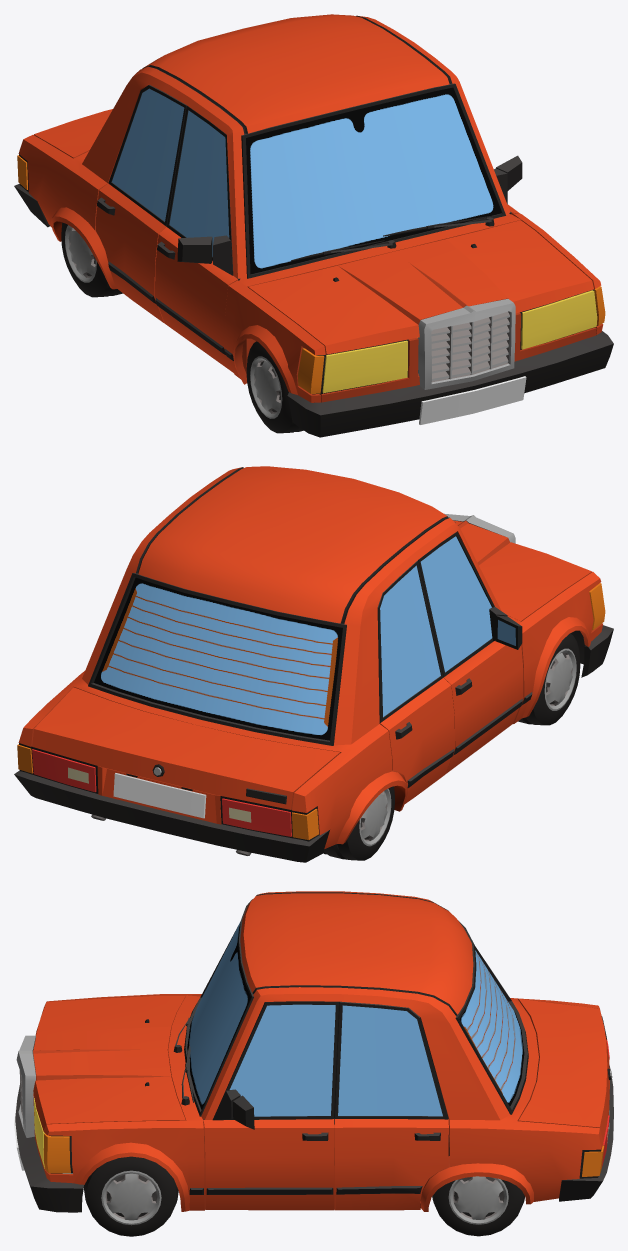
Rendered from car.obj.
3 views of the same model, one above another, from view 1: azimuth 30°, elevation 25°; view 2: azimuth 150°, elevation 25°; view 3: azimuth 270°, elevation 25° (orthographic). The views are drawn at different scales.
Parts seen in each view (by area): view 1: Object_4, Object_6, Object_26, Object_33, Object_29, Object_5, Object_83, Object_89, Object_85, Object_91, Object_87, Object_94 (+13 smaller); view 2: Object_4, Object_6, Object_35, Object_40, Object_26, Object_89, Object_85, Object_83, Object_5, Object_87, Object_91, Object_84 (+9 smaller); view 3: Object_4, Object_26, Object_45, Object_6, Object_47, Object_51, Object_35, Object_49, Object_42, Object_5, Object_46, Object_24 (+10 smaller).
Part boxes in pixels (<box>): Object_4: <box>18,14,520,289</box>; Object_6: <box>246,87,500,274</box>; Object_26: <box>248,220,593,354</box>; Object_33: <box>287,331,613,437</box>; Object_29: <box>418,299,515,389</box>; Object_5: <box>53,15,596,402</box>; Object_83: <box>155,227,237,372</box>; Object_89: <box>112,88,184,221</box>; Object_85: <box>169,110,229,256</box>; Object_91: <box>224,280,325,402</box>; Object_87: <box>96,183,166,323</box>; Object_94: <box>322,340,407,393</box>; Object_4: <box>18,466,520,848</box>; Object_6: <box>94,577,342,740</box>; Object_35: <box>32,687,339,809</box>; Object_40: <box>14,770,329,862</box>; Object_26: <box>453,520,591,621</box>; Object_89: <box>380,565,440,716</box>; Object_85: <box>420,536,492,672</box>; Object_83: <box>444,641,523,773</box>; Object_5: <box>31,467,490,855</box>; Object_87: <box>380,678,454,803</box>; Object_91: <box>514,572,602,723</box>; Object_84: <box>418,532,522,755</box>; Object_4: <box>168,891,609,1211</box>; Object_26: <box>33,995,185,1130</box>; Object_45: <box>203,1119,334,1210</box>; Object_6: <box>187,921,524,1109</box>; Object_47: <box>229,1004,335,1116</box>; Object_51: <box>338,1005,442,1116</box>; Object_35: <box>518,998,612,1141</box>; Object_49: <box>334,1119,448,1210</box>; Object_42: <box>43,1120,204,1211</box>; Object_5: <box>33,892,609,1208</box>; Object_46: <box>203,1001,339,1194</box>; Object_24: <box>84,1156,178,1236</box>.
Size of the model in its own units: 1.31 by 0.9457 by 2.13.
4 materials, 4 textured.
